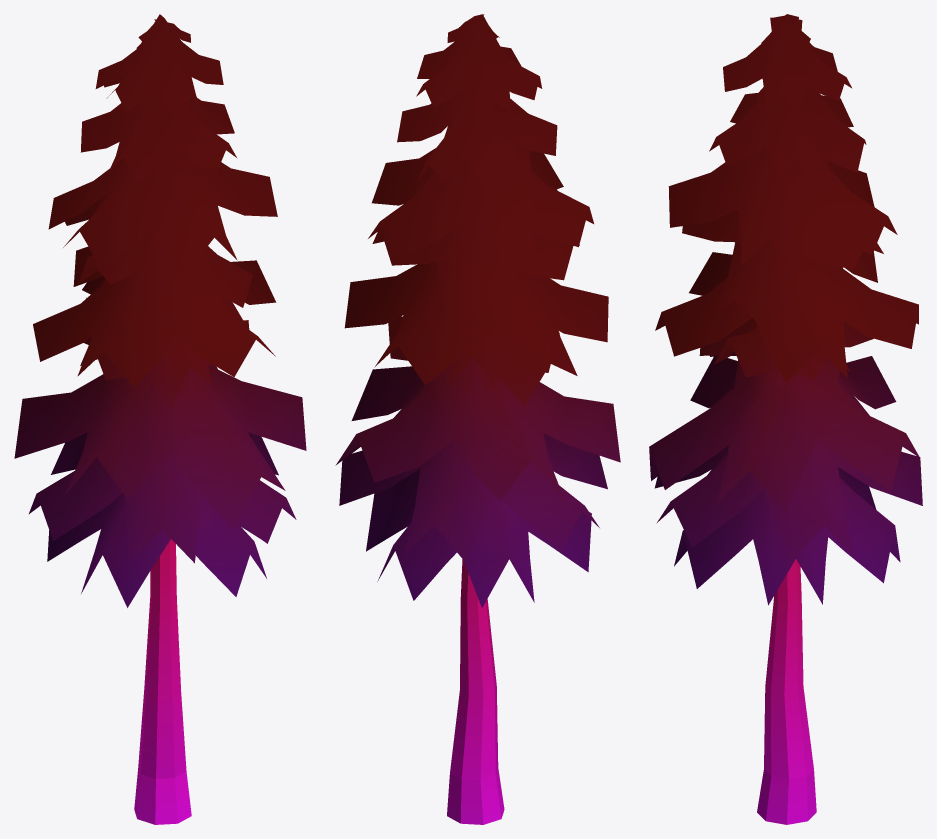
File: synty-tree-pine-large-01.gltf
The picture shows the model from 3 angles, left to right: view 1: azimuth 30°, elevation 25°; view 2: azimuth 150°, elevation 25°; view 3: azimuth 270°, elevation 25°; orthographic projection.
Visible parts, largest first — view 1: SM_Tree_Pine_Large_01; view 2: SM_Tree_Pine_Large_01; view 3: SM_Tree_Pine_Large_01.
Part boxes in pixels (x1,y1,x2,y2): SM_Tree_Pine_Large_01: (14,14,306,824); SM_Tree_Pine_Large_01: (335,14,620,824); SM_Tree_Pine_Large_01: (649,14,922,824).
Size of the model in its own units: 2.44 by 7.53 by 2.34.
